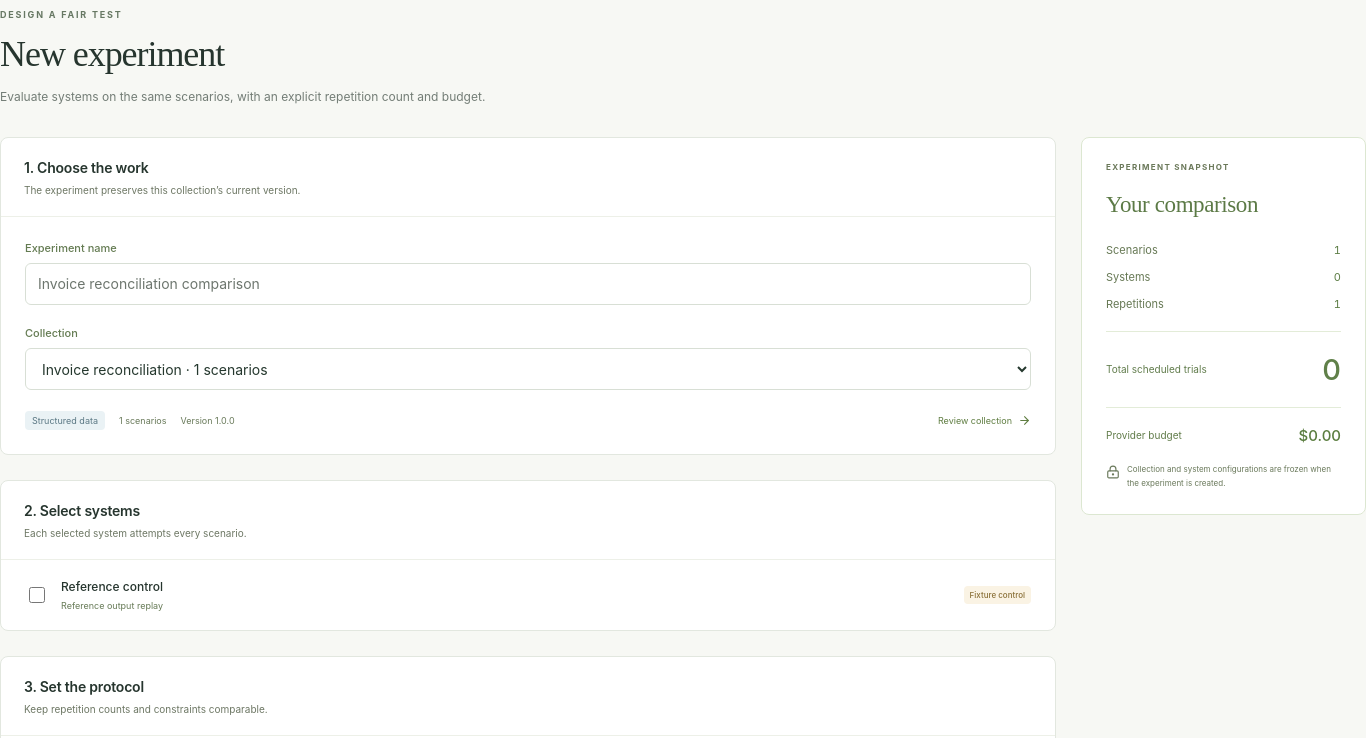
Test: experiment protocol › preserves the admission error when the service rejects a run
Click the checkbox labelled "Reference control Reference output replay Fixture control" at (37, 595), box x1=29 y1=587 x2=45 y2=603
(page scrolled)
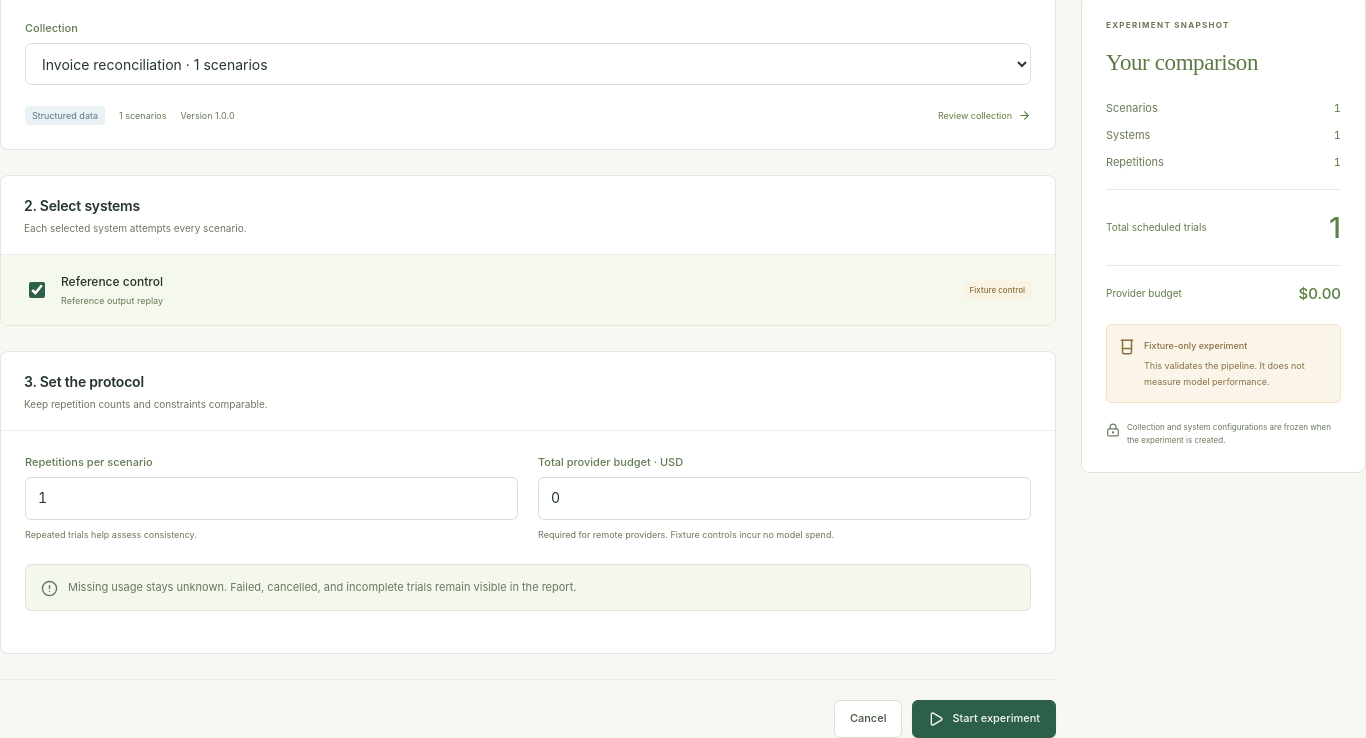
Click the button "Start experiment" at (984, 718), box x1=912 y1=700 x2=1056 y2=737
(page scrolled)
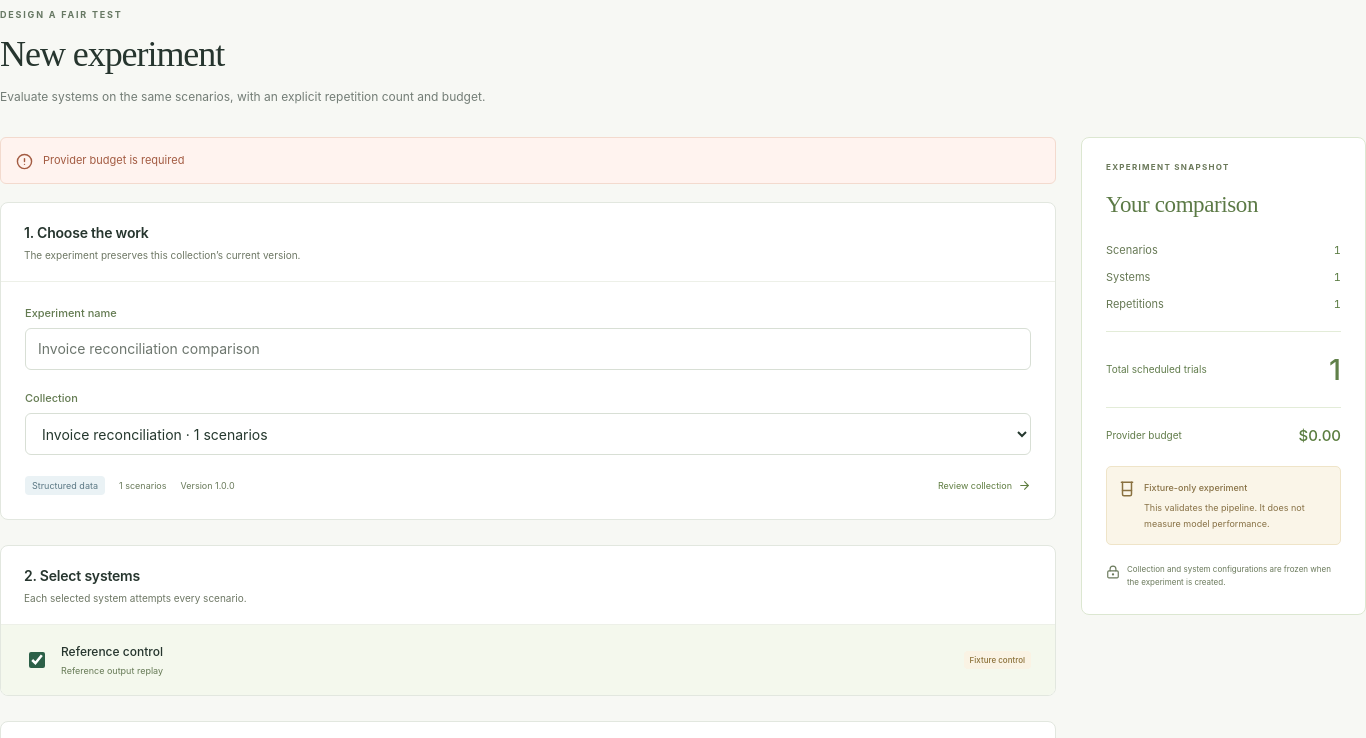
expect the message reads "Provider budget is required": met, box x1=43 y1=153 x2=184 y2=167
